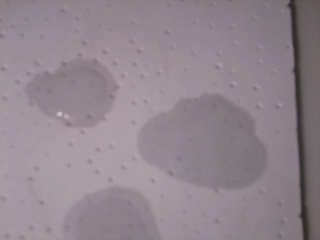Water_detected: (143, 101, 236, 183), (33, 56, 108, 120), (80, 192, 171, 240)
